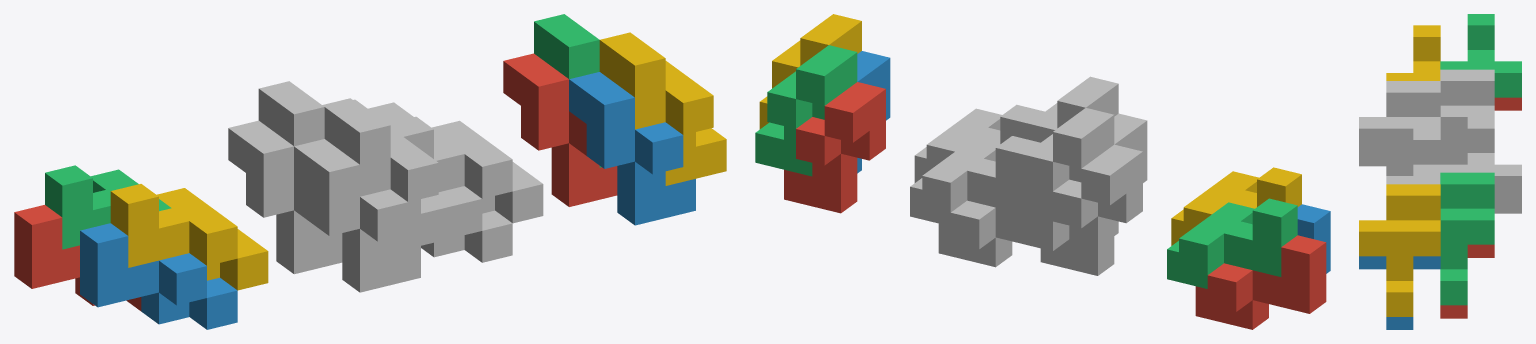
Rendered from tiling.obj.
The picture shows the model from 3 angles, left to right: view 1: azimuth 30°, elevation 25°; view 2: azimuth 150°, elevation 25°; view 3: azimuth 270°, elevation 25°; orthographic projection. The views are drawn at different scales.
Visible parts, largest first — view 1: copy_2_domain_6, copy_2_domain_2, copy_1_domain_4, copy_1_domain_2, copy_2_domain_8, copy_2_domain_4, copy_2_domain_1, copy_2_domain_5, copy_1_domain_8, copy_1_domain_1, copy_1_domain_3, copy_1_domain_6 (+3 smaller); view 2: copy_2_domain_5, copy_2_domain_1, copy_1_domain_3, copy_1_domain_1, copy_1_domain_7, copy_2_domain_7, copy_1_domain_5, copy_2_domain_3, copy_1_domain_4, copy_1_domain_8, copy_2_domain_8, copy_2_domain_4 (+3 smaller); view 3: copy_2_domain_8, copy_2_domain_7, copy_2_domain_4, copy_2_domain_3, copy_1_domain_3, copy_1_domain_7, copy_1_domain_8, copy_1_domain_4, copy_2_domain_6, copy_2_domain_5, copy_1_domain_1, copy_1_domain_5 (+1 smaller).
Boxes of the visible parts, left/top/right/bottom form: copy_2_domain_6: left=569, top=72, right=695, bottom=225; copy_2_domain_2: left=294, top=139, right=420, bottom=292; copy_1_domain_4: left=110, top=184, right=268, bottom=290; copy_1_domain_2: left=80, top=223, right=237, bottom=329; copy_2_domain_8: left=599, top=32, right=726, bottom=185; copy_2_domain_4: left=324, top=99, right=451, bottom=252; copy_2_domain_1: left=228, top=120, right=342, bottom=274; copy_2_domain_5: left=503, top=53, right=617, bottom=206; copy_1_domain_8: left=388, top=116, right=543, bottom=223; copy_1_domain_1: left=14, top=205, right=141, bottom=311; copy_1_domain_3: left=45, top=165, right=171, bottom=249; copy_1_domain_6: left=421, top=186, right=512, bottom=262; copy_2_domain_5: left=784, top=82, right=885, bottom=213; copy_2_domain_1: left=1040, top=144, right=1142, bottom=275; copy_1_domain_3: left=1167, top=198, right=1297, bottom=288; copy_1_domain_1: left=1195, top=235, right=1326, bottom=329; copy_1_domain_7: left=910, top=136, right=1040, bottom=226; copy_2_domain_7: left=755, top=45, right=857, bottom=176; copy_1_domain_5: left=938, top=184, right=1069, bottom=267; copy_2_domain_3: left=1024, top=108, right=1114, bottom=191; copy_1_domain_4: left=1171, top=167, right=1301, bottom=245; copy_1_domain_8: left=914, top=104, right=1044, bottom=182; copy_2_domain_8: left=759, top=14, right=861, bottom=129; copy_2_domain_4: left=1028, top=76, right=1118, bottom=142; copy_2_domain_8: left=1359, top=184, right=1440, bottom=316; copy_2_domain_7: left=1440, top=172, right=1494, bottom=305; copy_2_domain_4: left=1359, top=81, right=1440, bottom=175; copy_2_domain_3: left=1440, top=69, right=1494, bottom=164; copy_1_domain_3: left=1440, top=14, right=1521, bottom=97; copy_1_domain_7: left=1440, top=117, right=1521, bottom=200; copy_1_domain_8: left=1386, top=128, right=1440, bottom=184; copy_1_domain_4: left=1386, top=25, right=1440, bottom=80; copy_2_domain_6: left=1359, top=256, right=1440, bottom=329; copy_2_domain_5: left=1440, top=244, right=1494, bottom=318; copy_1_domain_1: left=1494, top=97, right=1521, bottom=110; copy_1_domain_5: left=1494, top=200, right=1521, bottom=213.
Bounding box in the file's own units: 21 × 5 × 6.
